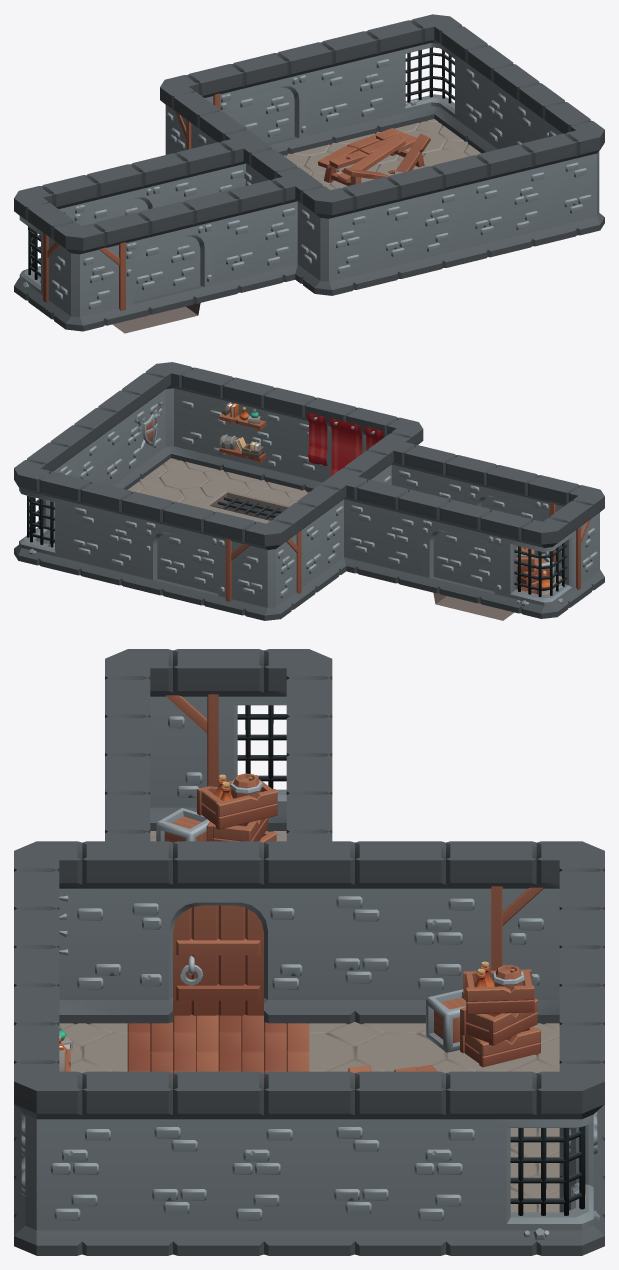
The model's file is DungeonScene.glb.
3 renders of one model, top to bottom at view 1: azimuth 30°, elevation 25°; view 2: azimuth 150°, elevation 25°; view 3: azimuth 270°, elevation 25°, orthographic. The views are drawn at different scales.
Parts seen in each view (by area): view 1: wall_shelves, wall.003, wall.002, wall_arched.002, wall_corner_scaffold.001, wall.006, wall_corner.001, wall_arched, wall_corner_gated, wall_corner, wall, wall_arched.001 (+12 smaller); view 2: wall.002, wall_arched.001, wall_arched, wall_shelves, wall_corner_scaffold, wall.005, wall_corner_gated.001, wall_corner, wall.004, wall.001, wall_corner_gated, wall.003 (+16 smaller); view 3: wall, wall.001, wall.004, wall_doorway, wall_corner, wall_corner_gated, wall_corner.001, wall_corner_scaffold.001, wall_corner_scaffold, wall_corner_gated.001, wall_doorway_door, floor_wood_large (+16 smaller).
Part boxes in pixels (x1,y1,x2,y2): wall_shelves: (454,138,555,262); wall.003: (364,160,466,284); wall.002: (299,25,400,148); wall_arched.002: (115,196,217,320); wall_corner_scaffold.001: (39,212,127,331); wall.006: (205,174,302,298); wall_corner.001: (289,176,376,295); wall_arched: (209,47,311,155); wall_corner_gated: (388,14,475,132); wall_corner: (543,111,604,241); wall: (453,35,526,153); wall_arched.001: (64,158,165,225); wall.002: (59,476,152,590); wall_arched.001: (418,494,511,608); wall_arched: (141,496,234,610); wall_shelves: (201,372,295,485); wall_corner_scaffold: (223,511,304,620); wall.005: (344,477,429,588); wall_corner_gated.001: (500,509,581,618); wall_corner: (133,362,212,470); wall.004: (284,476,351,601); wall.001: (85,381,152,489); wall_corner_gated: (14,450,70,570); wall.003: (284,392,377,491); wall: (309,1071,491,1255); wall.001: (127,1071,309,1255); wall.004: (309,841,491,1024); wall_doorway: (127,841,309,1023); wall_corner: (14,1043,127,1255); wall_corner_gated: (491,1043,604,1255); wall_corner.001: (14,841,127,1024); wall_corner_scaffold.001: (105,649,218,830); wall_corner_scaffold: (491,841,604,1024); wall_corner_gated.001: (218,649,332,831); wall_doorway_door: (173,905,263,1016); floor_wood_large: (127,1014,309,1072).
Bounding box in the file's own units: 23 × 4.98 × 13.
Materials: 29 (29 with a texture image).
